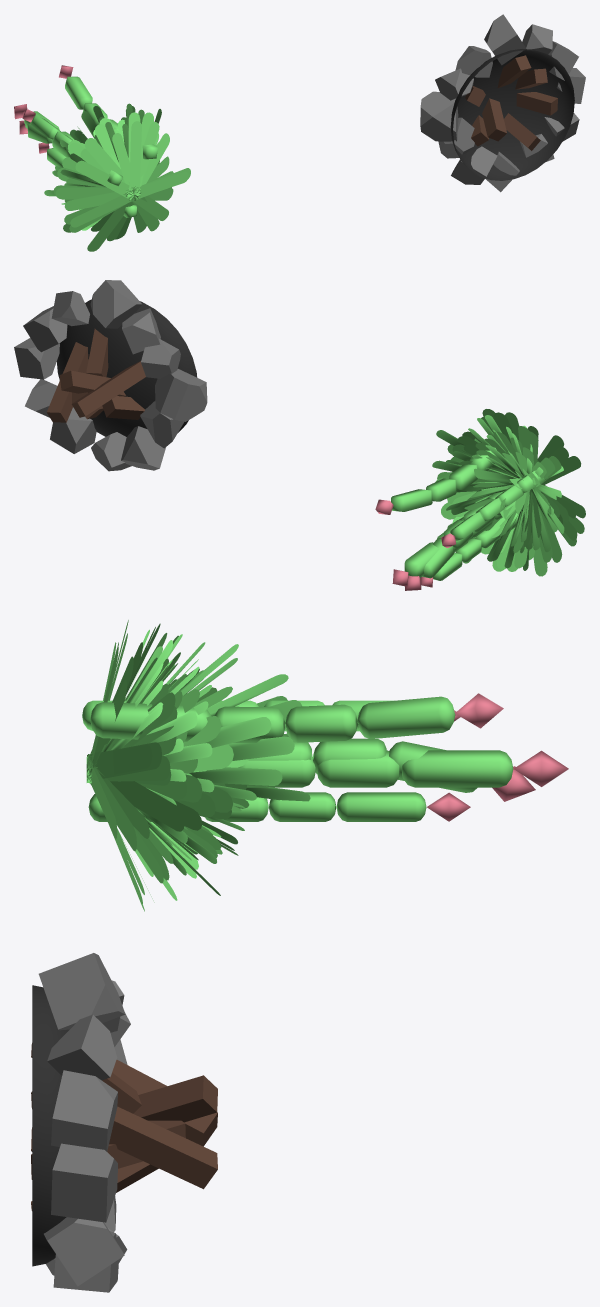
File: Diorama Assets.fbx
3 views of the same model, one above another, from view 1: azimuth 30°, elevation 25°; view 2: azimuth 150°, elevation 25°; view 3: azimuth 270°, elevation 25° (orthographic). The views are drawn at different scales.
Visible parts, largest first — view 1: Campfire, Desert Bush 2, Desert Cactus Cluster, Desert Bush 5, Desert Bush 3, Desert Bush 4, Desert Bush 1, Desert Cactus; view 2: Campfire, Desert Cactus Cluster, Desert Bush 1, Desert Bush 2, Desert Bush 4, Desert Bush 5, Desert Bush 3, Desert Cactus; view 3: Campfire, Desert Cactus Cluster, Desert Bush 1, Desert Cactus, Desert Bush 5, Desert Bush 3, Desert Bush 4, Desert Bush 2.
Boxes of the visible parts, x1,y1,x2,y2 form: Campfire: (420,14,585,192); Desert Bush 2: (55,119,188,241); Desert Cactus Cluster: (19,65,157,217); Desert Bush 5: (64,112,171,232); Desert Bush 3: (63,122,190,239); Desert Bush 4: (53,112,173,251); Desert Bush 1: (44,103,161,230); Desert Cactus: (14,104,70,157); Campfire: (14,280,207,471); Desert Cactus Cluster: (375,447,544,590); Desert Bush 1: (432,415,564,570); Desert Bush 2: (447,426,585,568); Desert Bush 4: (435,412,568,576); Desert Bush 5: (441,409,581,571); Desert Bush 3: (437,417,584,571); Desert Cactus: (392,515,502,586); Campfire: (31,953,217,1292); Desert Cactus Cluster: (82,693,535,821); Desert Bush 1: (104,629,310,895); Desert Cactus: (238,750,568,787); Desert Bush 5: (87,623,232,903); Desert Bush 3: (86,633,248,911); Desert Bush 4: (86,627,244,894); Desert Bush 2: (86,620,249,876).
Bounding box in the file's own units: 832 × 265 × 382.
